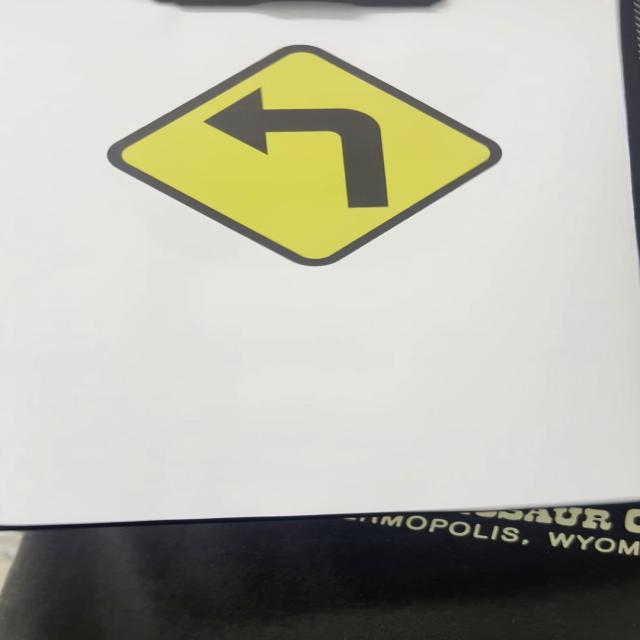left: (109, 43, 503, 269)
